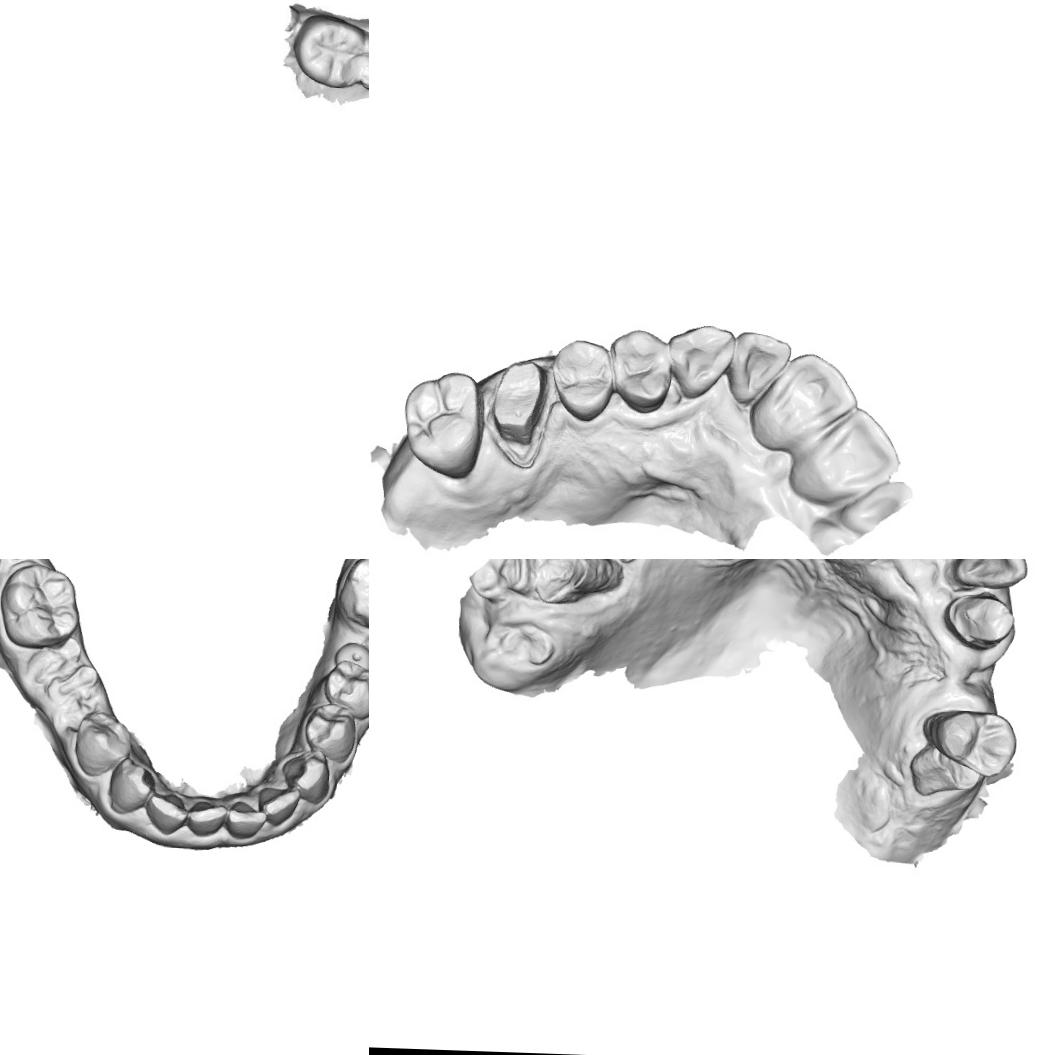canine: (666, 322, 735, 402), (280, 746, 336, 806), (103, 756, 158, 816)
crown: (486, 358, 547, 447)
implant: (333, 641, 369, 679)
incisor: (754, 350, 860, 448), (802, 402, 904, 498), (724, 326, 795, 405), (953, 559, 1031, 591), (223, 793, 269, 842), (143, 788, 187, 837), (255, 783, 303, 827), (184, 796, 232, 839)
molar: (399, 368, 486, 478), (0, 559, 82, 652), (294, 16, 366, 86), (335, 559, 369, 635)
premolar: (924, 708, 1020, 780), (610, 326, 676, 412), (551, 336, 612, 422), (71, 707, 134, 780), (302, 700, 361, 766), (319, 659, 369, 719)
